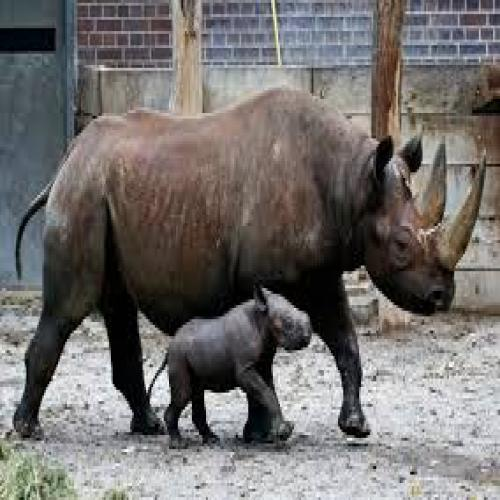rhino-endangered: (12, 86, 486, 438), (144, 281, 313, 449)
